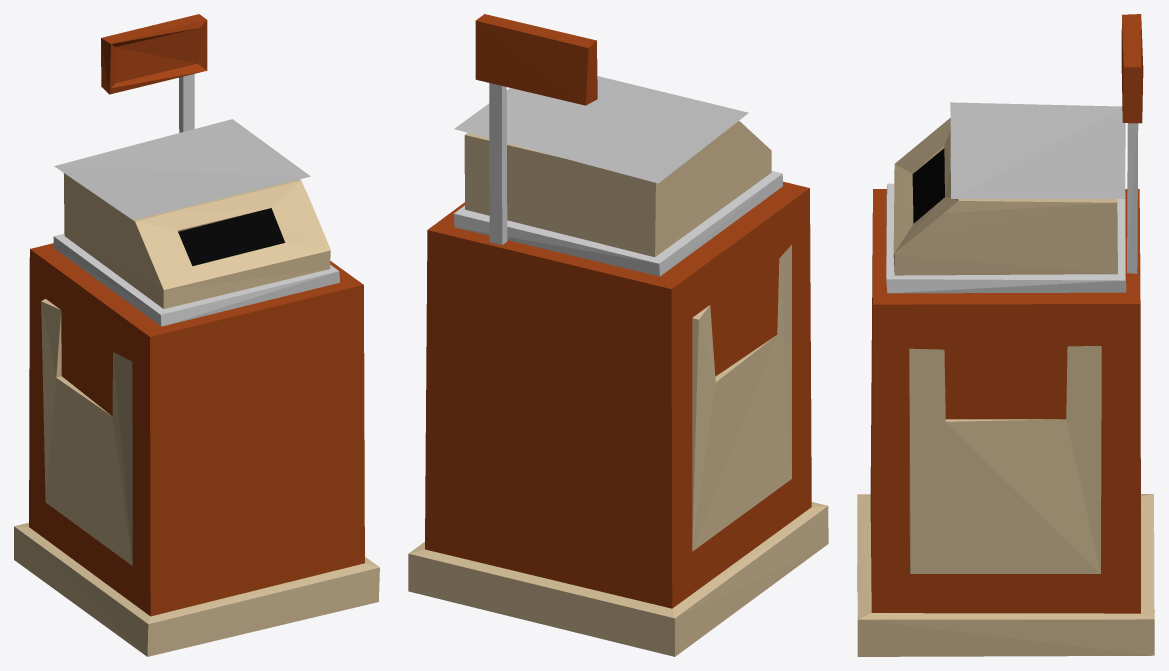
File: ss-kiosk.lod2.glb
3 views of the same model, side by side, from view 1: azimuth 30°, elevation 25°; view 2: azimuth 150°, elevation 25°; view 3: azimuth 270°, elevation 25° (orthographic). The views are drawn at different scales.
Visible parts, largest first — view 1: Object_84; view 2: Object_84; view 3: Object_84.
Part boxes in pixels (x1,y1,x2,y2): Object_84: (14,14,379,656); Object_84: (408,14,828,656); Object_84: (857,14,1154,656).
Size of the model in its own units: 1.01 by 2.1 by 1.01.
